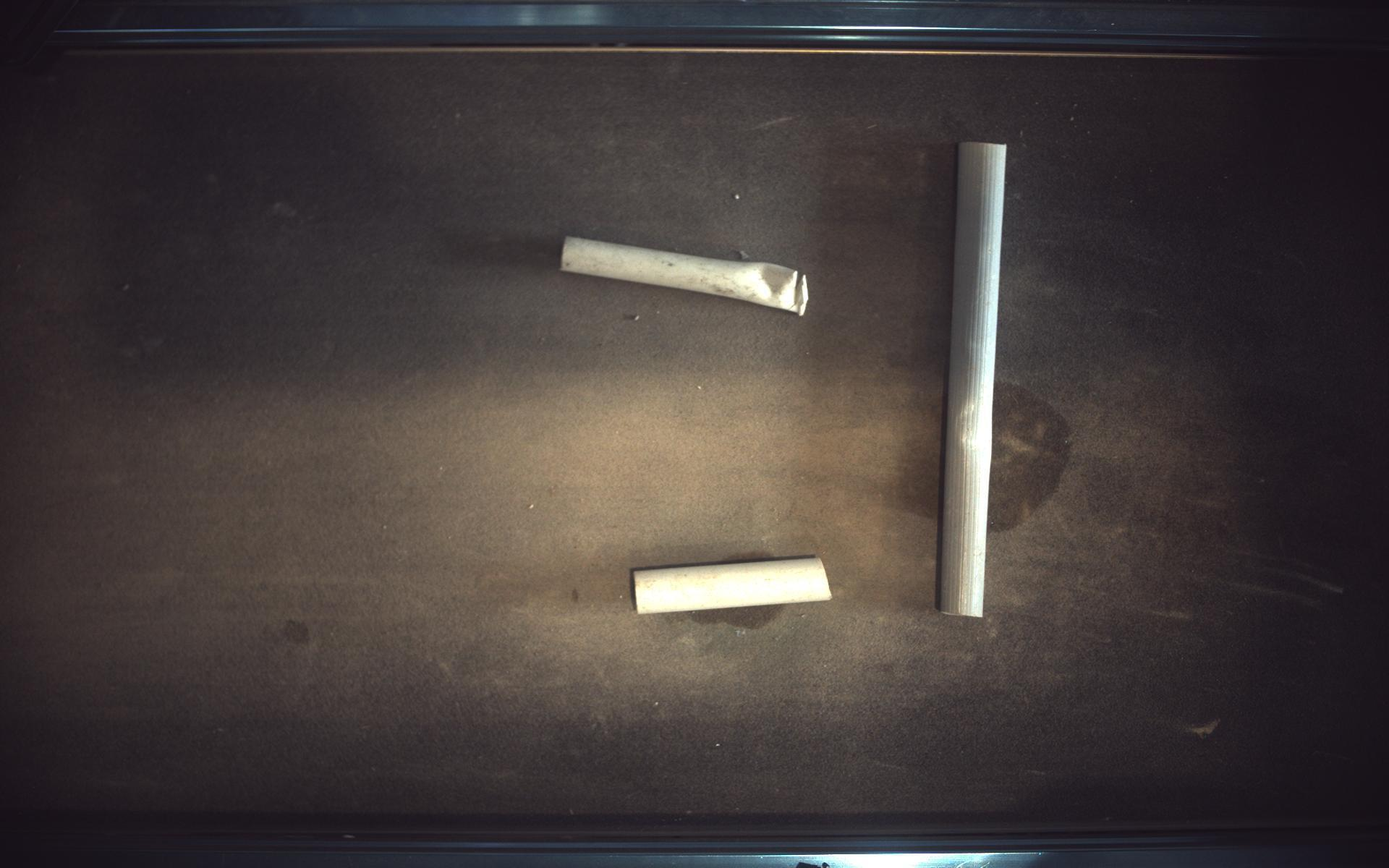pipes: (940, 141, 1008, 618), (561, 236, 810, 315), (634, 557, 833, 615)
